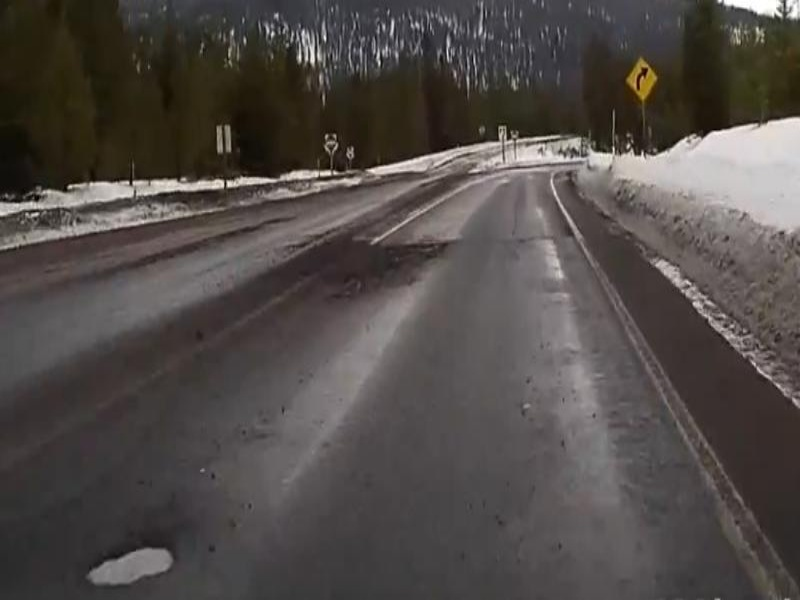pothole: (79, 541, 179, 589)
